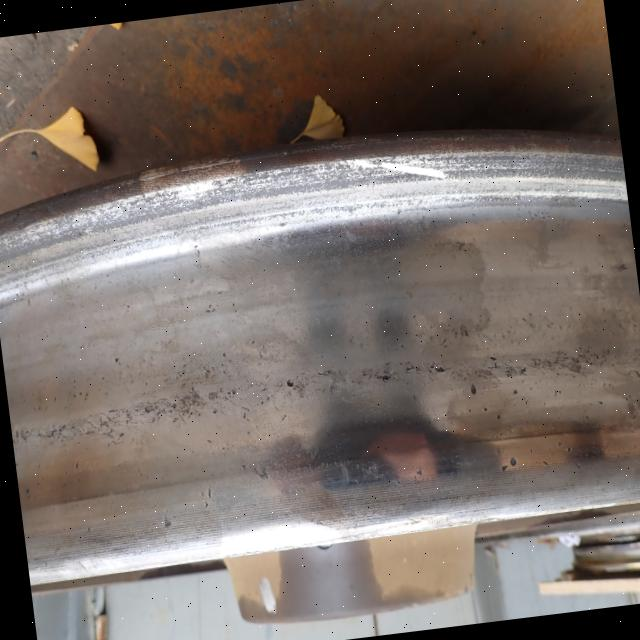Contact_Fatigue_Cracks: (119, 385, 242, 432), (472, 348, 592, 391), (18, 413, 114, 448), (360, 355, 448, 393), (284, 370, 346, 399)
